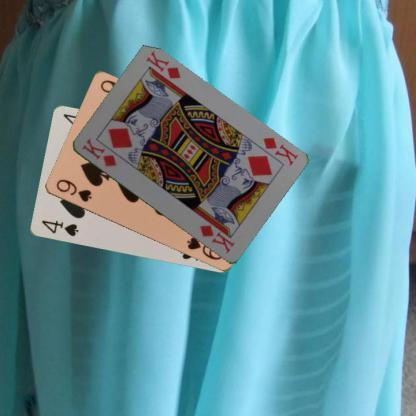4s: (38, 218, 80, 238)
9s: (53, 176, 93, 204)
Kd: (253, 134, 299, 167), (79, 135, 117, 168)
